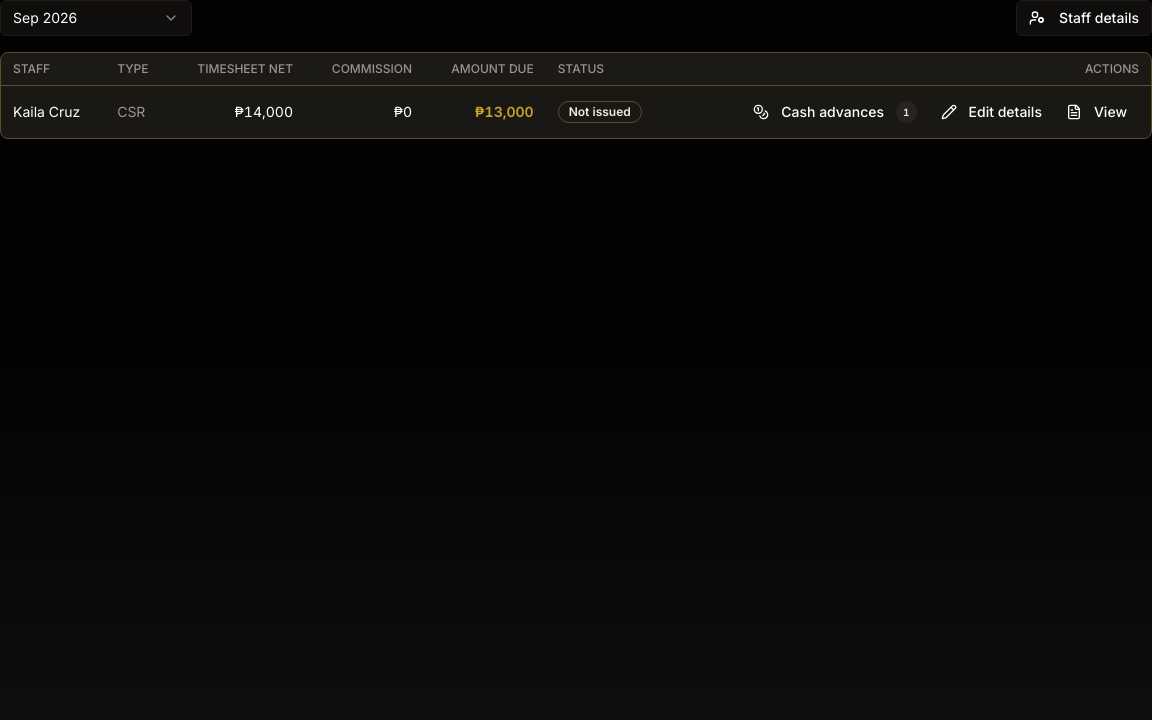
Test: Cash advances — 2 proof files › an advance with two proofs shows Open proof 1 and 2 and nothing to attach
Click the button with test id "payslip-advances-open" at (835, 112), box [741,94,928,130]
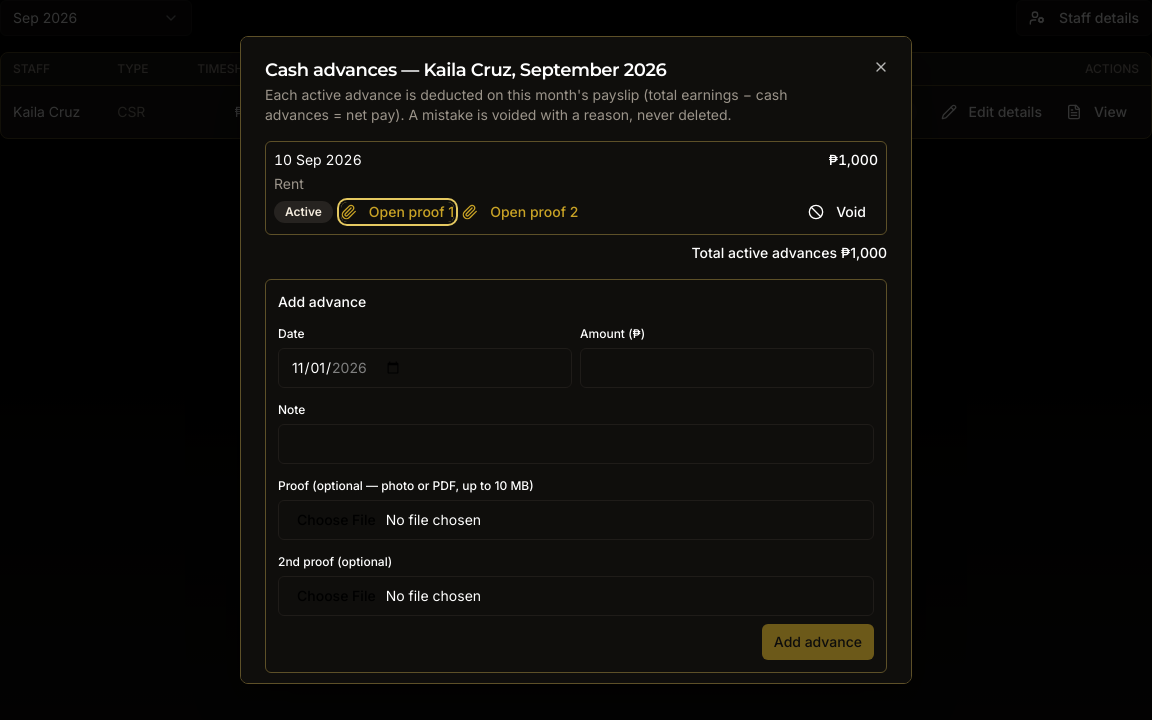
Expected: the button "Open proof 2" is shown, [462,202,578,222]
